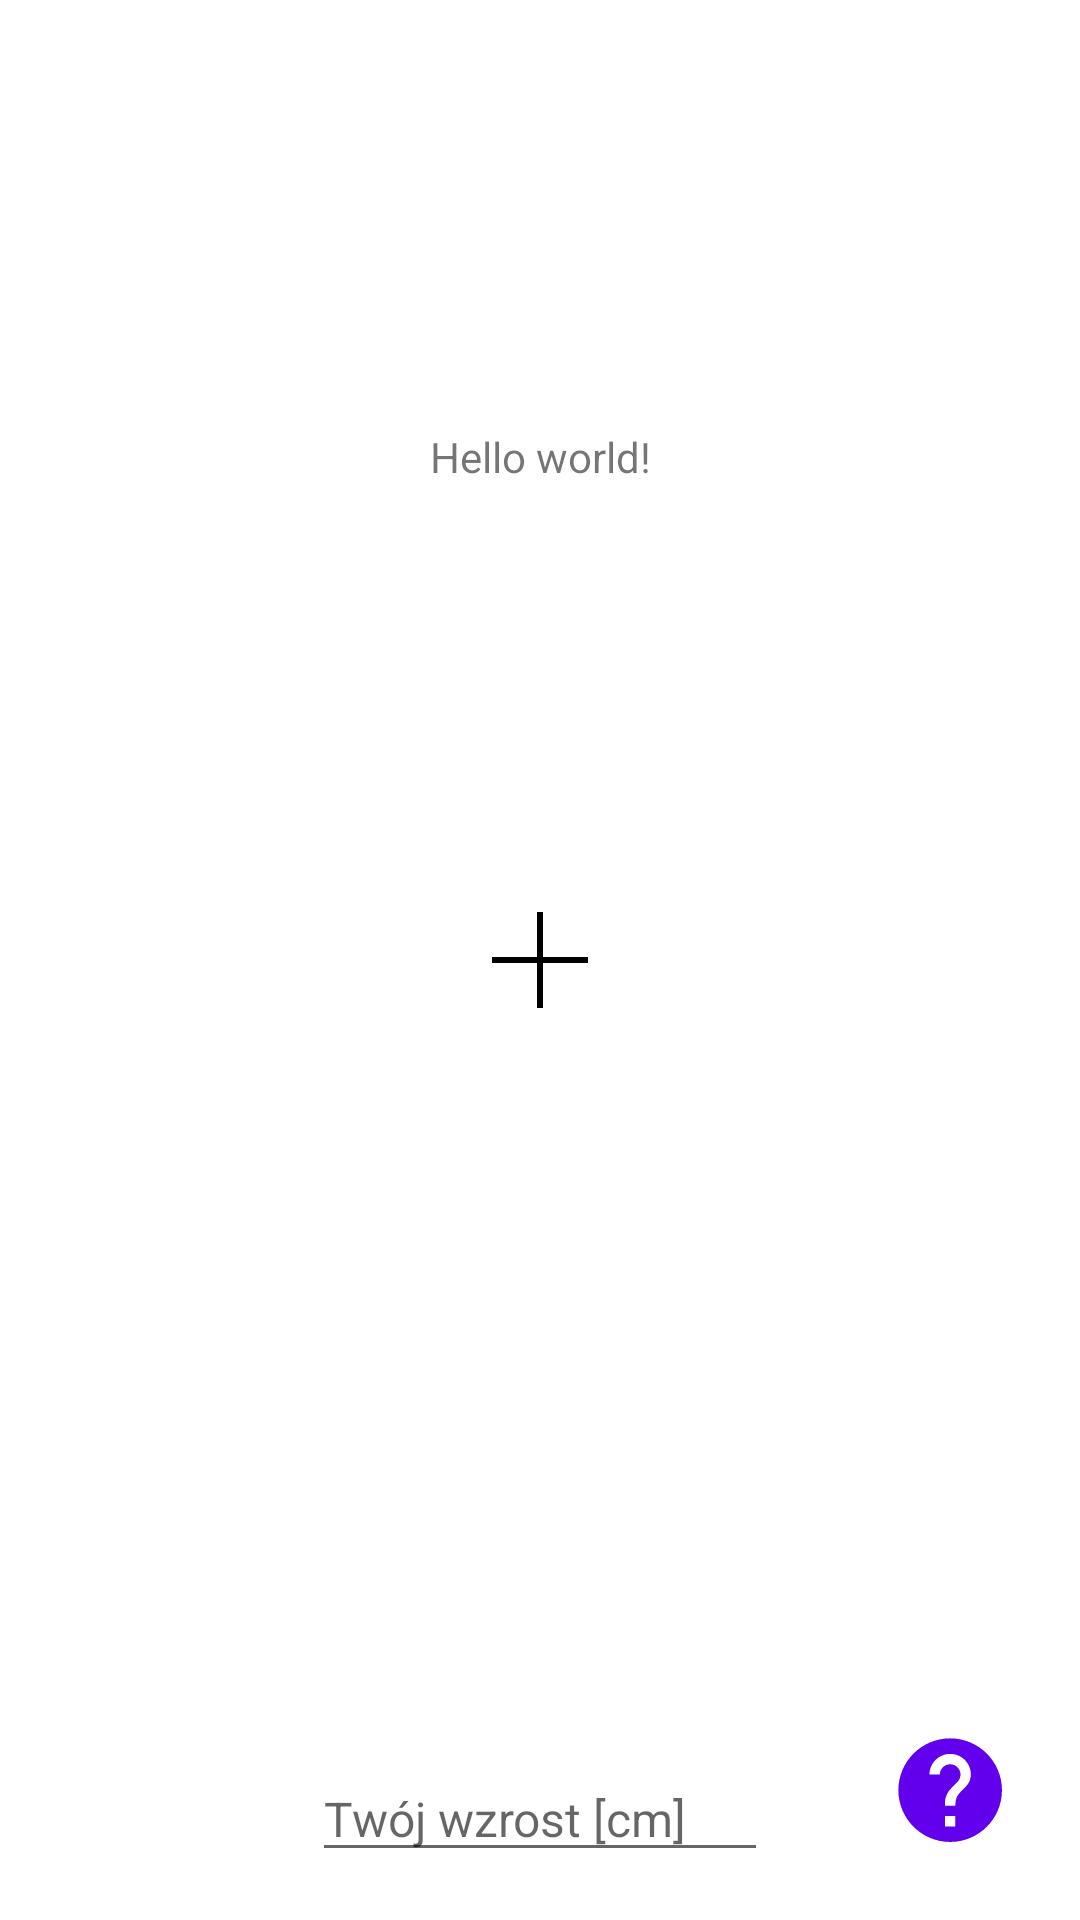

Icon bounding boxes for this 1080 x 1920 phone screenshot, format (x1, y1, x2, y2):
crosshair: (492, 912, 588, 1008)
help: (898, 1738, 1002, 1842)
